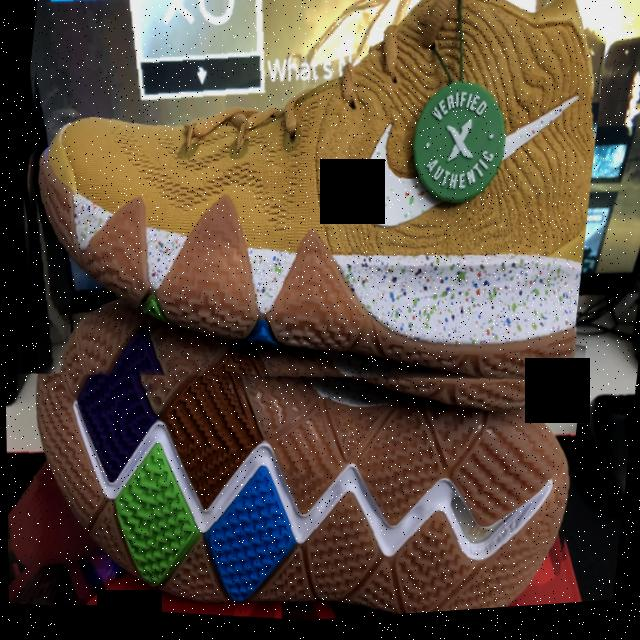shoe: (0, 0, 615, 441), (4, 272, 588, 640)
